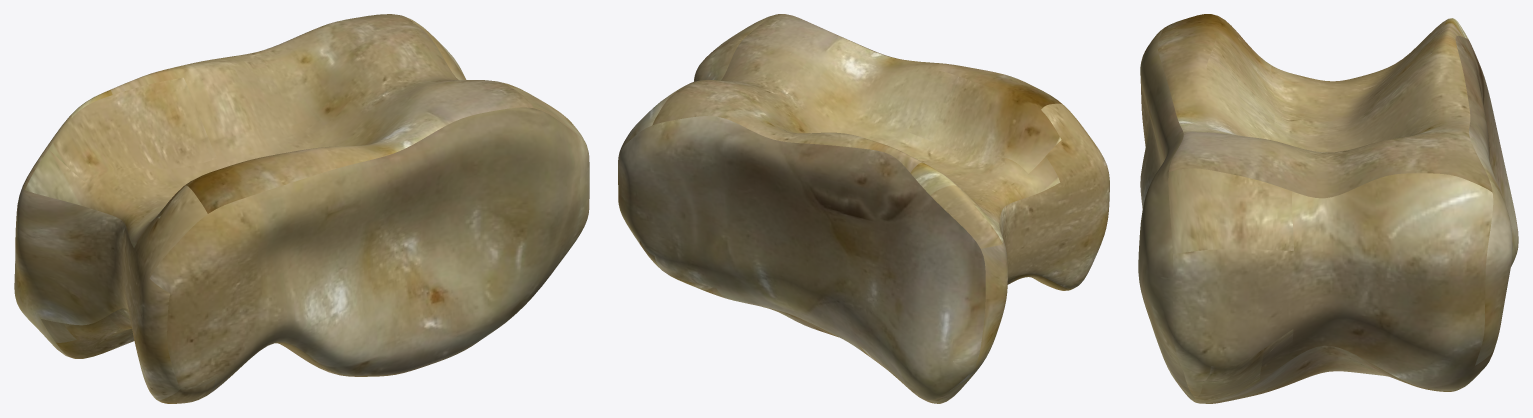
The model's file is asyk.glb.
3 views of the same model, side by side, from view 1: azimuth 30°, elevation 25°; view 2: azimuth 150°, elevation 25°; view 3: azimuth 270°, elevation 25° (orthographic). The views are drawn at different scales.
Parts seen in each view (by area): view 1: Cube; view 2: Cube; view 3: Cube.
Part boxes in pixels (x1,y1,x2,y2): Cube: (14,14,589,403); Cube: (618,14,1109,403); Cube: (1138,14,1518,403).
Bounding box in the file's own units: 0.7171 × 0.4237 × 0.4816.
Materials: 1 (1 with a texture image).
